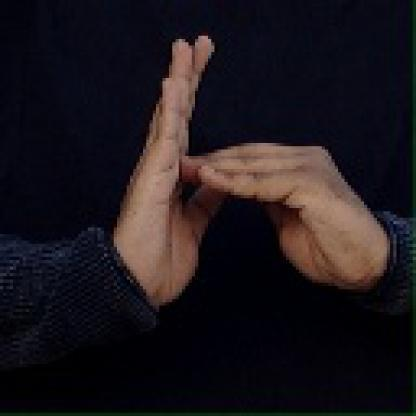Z: (116, 29, 363, 296)
